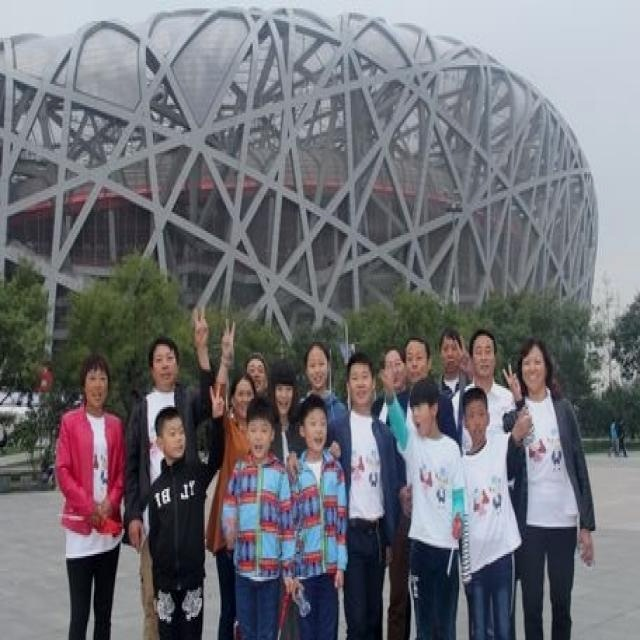Sin_Casco_Mascarrilla: (518, 336, 550, 396), (81, 355, 111, 410), (470, 329, 499, 384), (150, 334, 179, 387)
